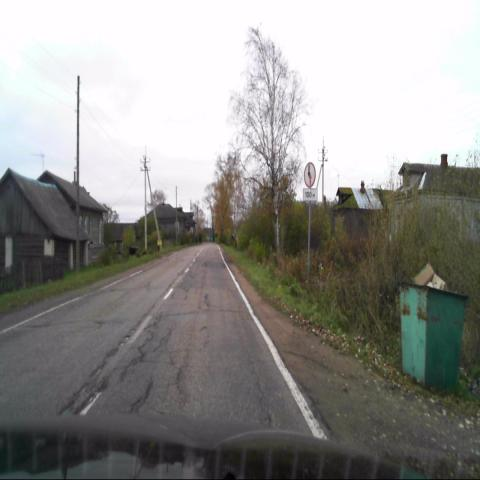2_6: (303, 161, 316, 186)
